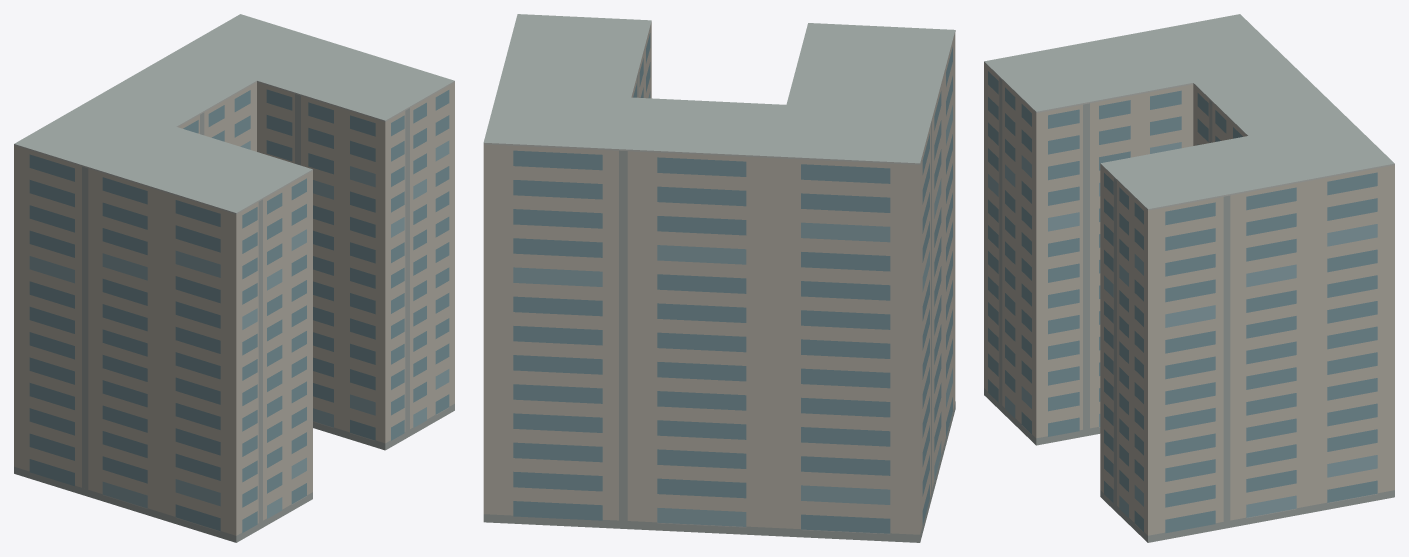
The model's file is residential-af1cb8b9-10a5-4a20-9388-7f9dd47990a9.glb.
The picture shows the model from 3 angles, left to right: view 1: azimuth 30°, elevation 25°; view 2: azimuth 150°, elevation 25°; view 3: azimuth 270°, elevation 25°; orthographic projection. The views are drawn at different scales.
Parts seen in each view (by area): view 1: residential-af1cb8b9-10a5-4a20-9388-7f9dd47990a9.tmp; view 2: residential-af1cb8b9-10a5-4a20-9388-7f9dd47990a9.tmp; view 3: residential-af1cb8b9-10a5-4a20-9388-7f9dd47990a9.tmp.
Part boxes in pixels (box(x1,y1,x2,y2)): residential-af1cb8b9-10a5-4a20-9388-7f9dd47990a9.tmp: box(14, 14, 454, 542); residential-af1cb8b9-10a5-4a20-9388-7f9dd47990a9.tmp: box(483, 14, 955, 542); residential-af1cb8b9-10a5-4a20-9388-7f9dd47990a9.tmp: box(984, 14, 1394, 542).
Size of the model in its own units: 72.77 by 58 by 64.72.
